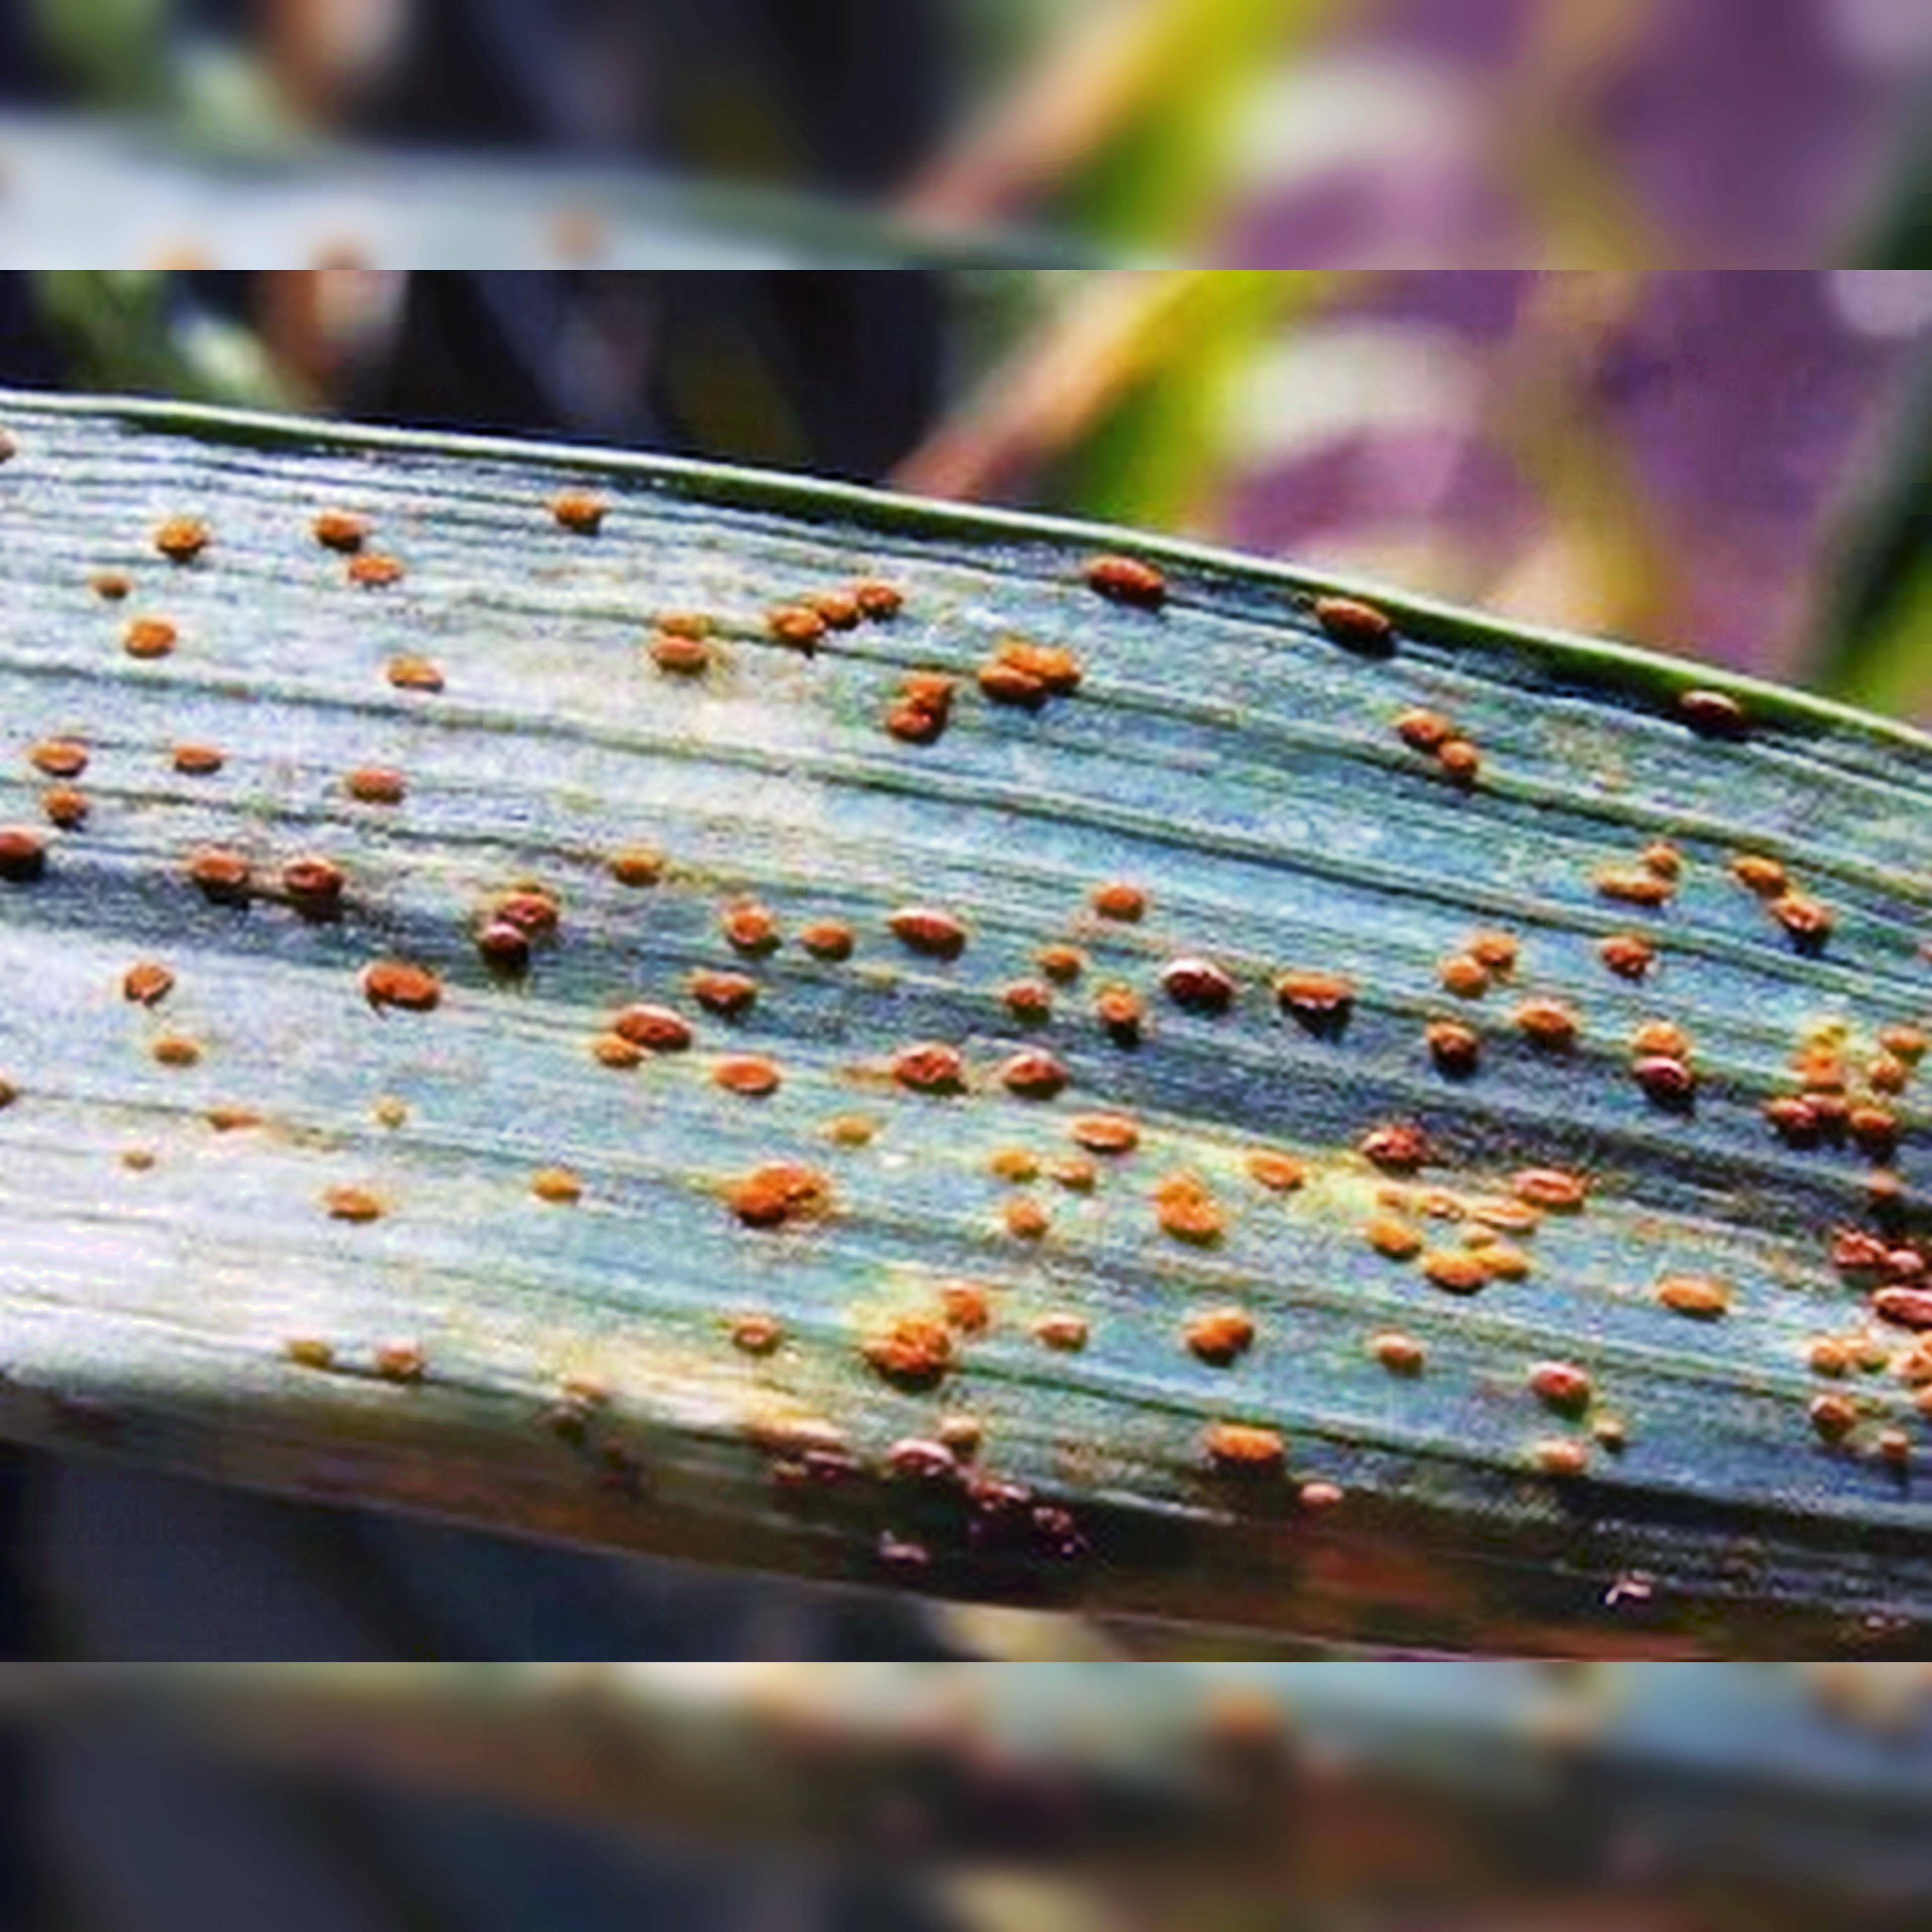Leaf Rust: (136, 439, 1819, 1606)
